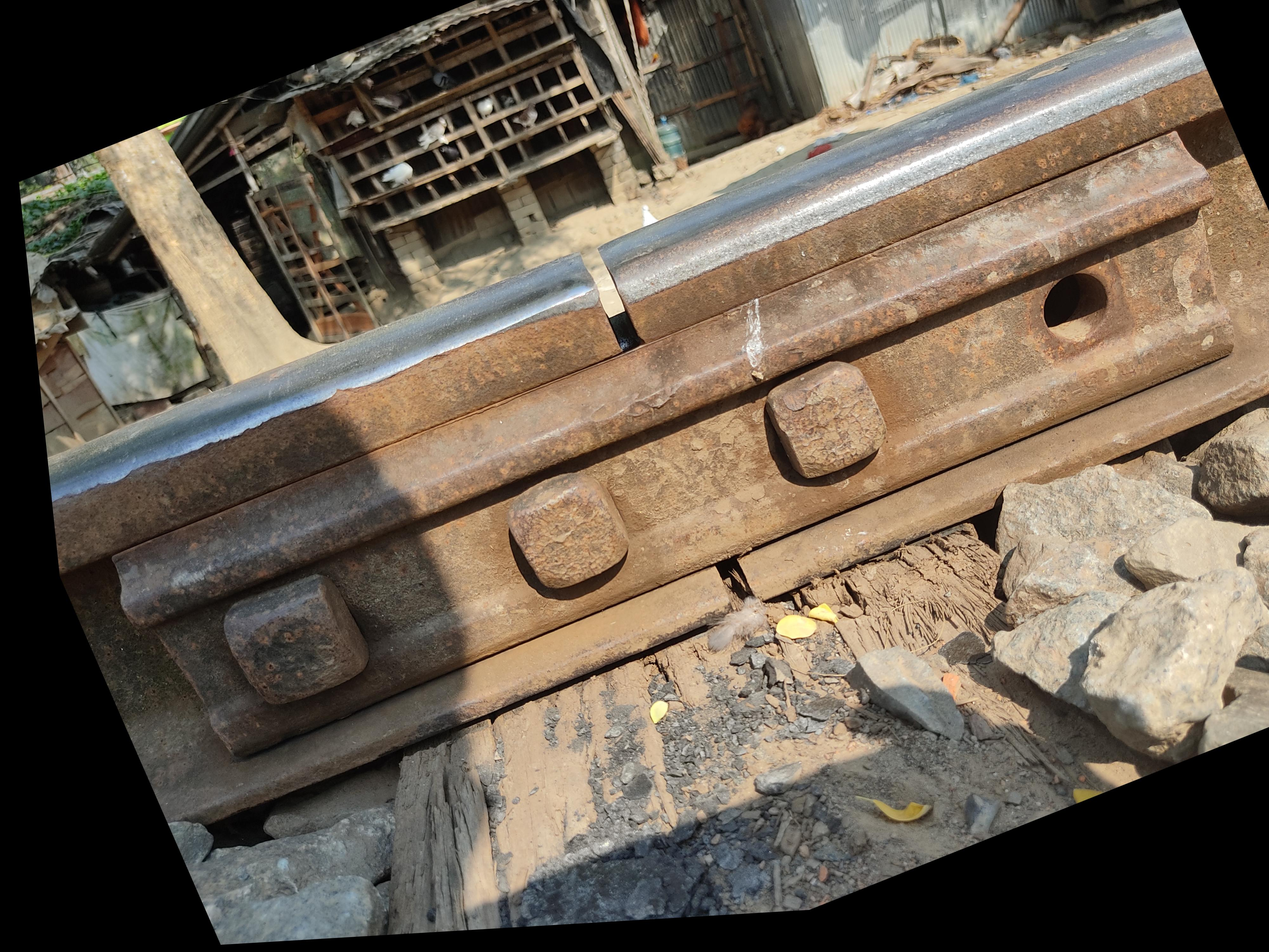person: (409, 419, 630, 621), (560, 744, 697, 868)
